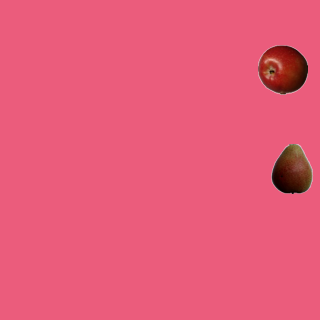Apple Braeburn: (257, 44, 307, 94)
Pear Forelle: (266, 143, 316, 193)
